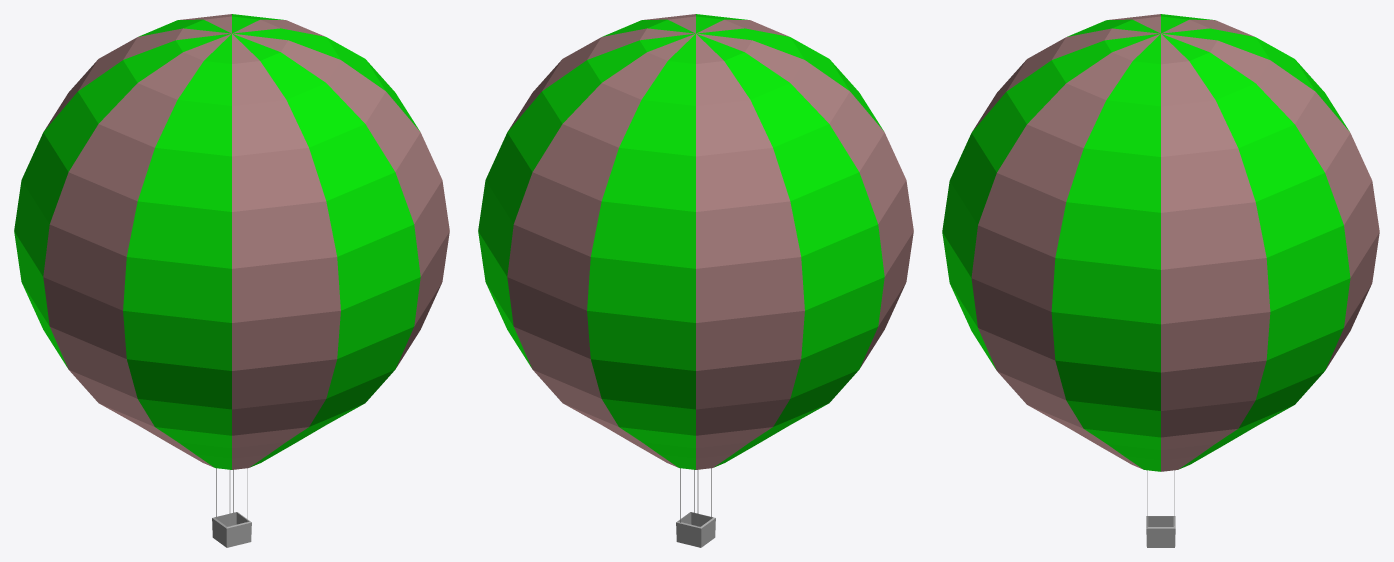
The model's file is E_Balloon03.fbx.
The picture shows the model from 3 angles, left to right: view 1: azimuth 30°, elevation 25°; view 2: azimuth 150°, elevation 25°; view 3: azimuth 270°, elevation 25°; orthographic projection.
Parts seen in each view (by area): view 1: e_hp_hab_03; view 2: e_hp_hab_03; view 3: e_hp_hab_03.
Part boxes in pixels (<box>): e_hp_hab_03: <box>14,14,449,547</box>; e_hp_hab_03: <box>478,14,913,547</box>; e_hp_hab_03: <box>942,14,1379,547</box>.
Bounding box in the file's own units: 2800 × 3589 × 2800.
